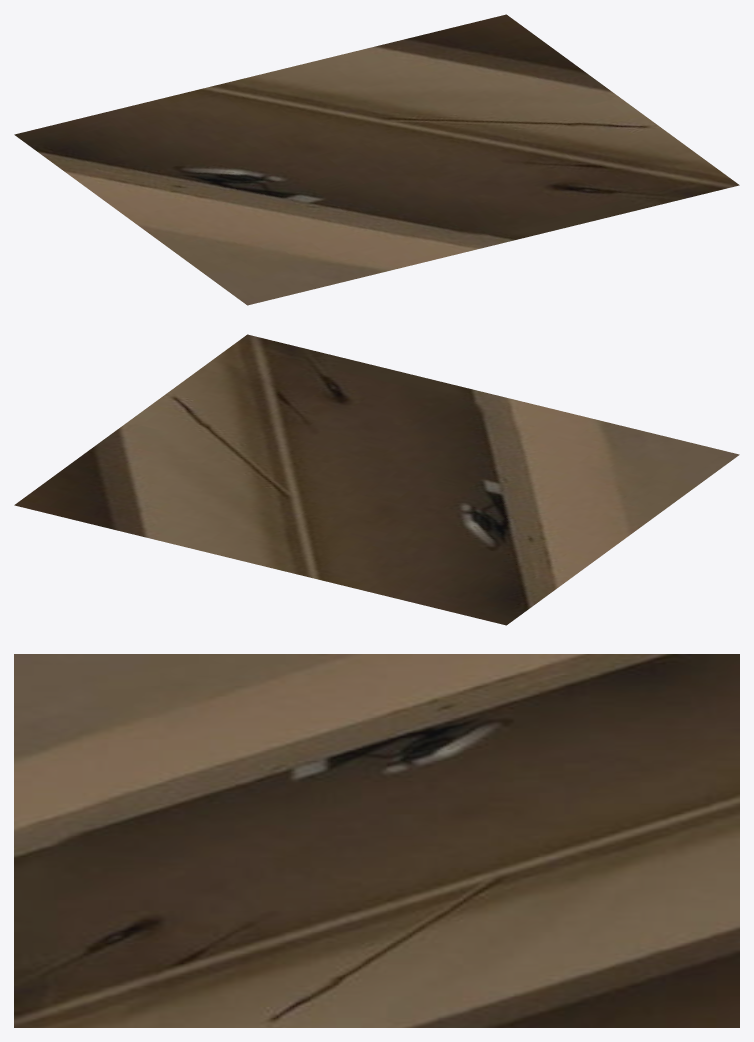
3 renders of one model, top to bottom at view 1: azimuth 30°, elevation 25°; view 2: azimuth 150°, elevation 25°; view 3: azimuth 270°, elevation 25°, orthographic. The views are drawn at different scales.
Bounding box in the file's own units: 3.24 × 4.96e-05 × 2.66.
1 material, 1 textured.
